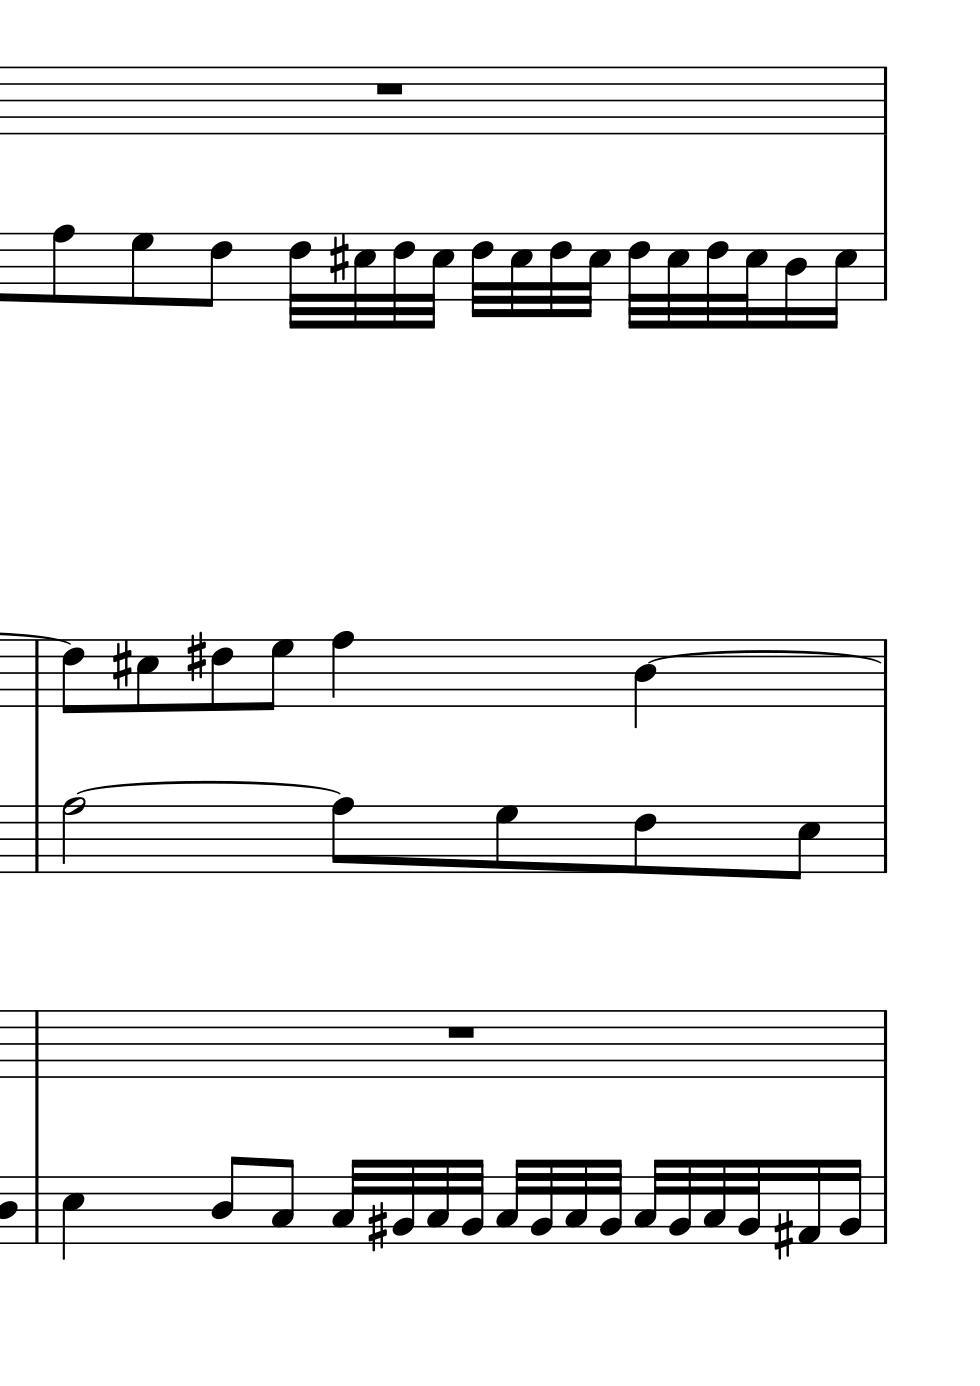16_1: (797, 1157, 822, 1246)
16_2: (838, 1157, 863, 1246)
16_4: (782, 231, 808, 332)
16_5: (826, 231, 858, 329)
2_8: (60, 796, 86, 876)
32_2: (530, 1156, 555, 1245), (598, 1157, 623, 1246), (391, 1157, 416, 1245), (460, 1157, 485, 1245), (668, 1157, 692, 1245), (738, 1157, 762, 1245)
32_3: (330, 1157, 361, 1246), (633, 1157, 663, 1245), (495, 1158, 525, 1245), (564, 1157, 589, 1245), (702, 1157, 727, 1245), (426, 1158, 451, 1245)
32_5: (426, 231, 461, 330), (738, 231, 768, 331), (583, 230, 615, 321), (508, 231, 537, 321), (665, 230, 690, 331), (352, 232, 378, 331)
32_6: (548, 232, 580, 321), (470, 231, 501, 321), (391, 232, 418, 331), (625, 231, 650, 330), (287, 231, 312, 332), (704, 231, 729, 330)
4_4: (632, 637, 658, 730)
4_5: (59, 1173, 85, 1262)
4_8: (329, 629, 354, 709)
8_3: (269, 1157, 295, 1246)
8_4: (210, 1154, 243, 1246)
8_5: (787, 804, 820, 882), (133, 637, 159, 714)
8_6: (196, 230, 232, 310), (60, 637, 85, 715), (209, 637, 233, 713), (632, 803, 657, 876)
8_7: (260, 638, 293, 710), (128, 231, 155, 308), (492, 804, 518, 874)
8_8: (50, 222, 75, 306), (329, 795, 354, 874)
Rests1: (371, 78, 407, 98), (443, 1022, 479, 1041)
Sharp: (109, 638, 133, 692), (183, 630, 207, 683), (329, 232, 350, 284), (367, 1201, 388, 1253), (773, 1210, 793, 1261)
Single_barline: (28, 804, 47, 872), (875, 1176, 893, 1245), (27, 1011, 45, 1077), (28, 642, 46, 707), (876, 1010, 893, 1078), (876, 233, 893, 300), (28, 1176, 45, 1243), (877, 67, 893, 134), (877, 806, 892, 872), (878, 639, 892, 708)
Slur: (78, 779, 335, 799), (643, 648, 879, 664)
